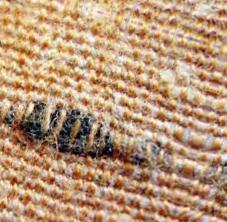slub: (4, 101, 168, 171)
